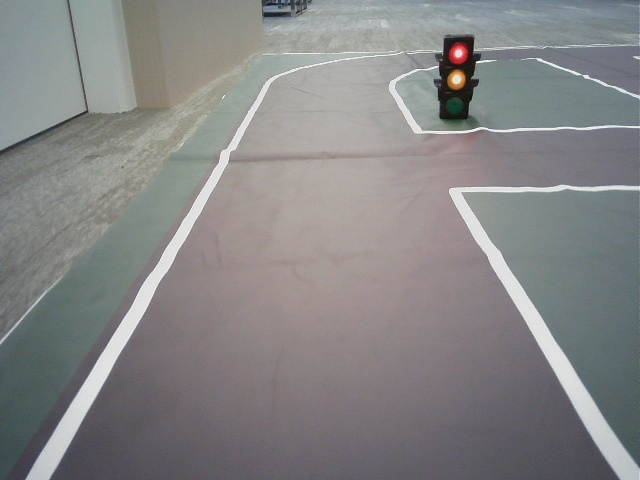red: (442, 40, 467, 112)
